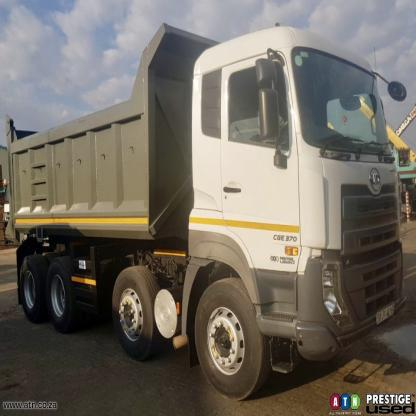dump_truck: (6, 17, 414, 401)
